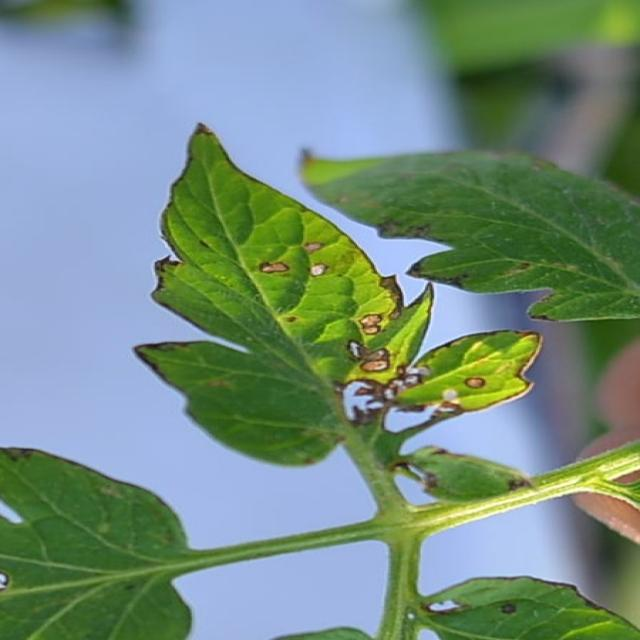infected: (226, 216, 568, 438), (418, 571, 633, 640), (378, 450, 540, 516), (0, 446, 44, 600)
